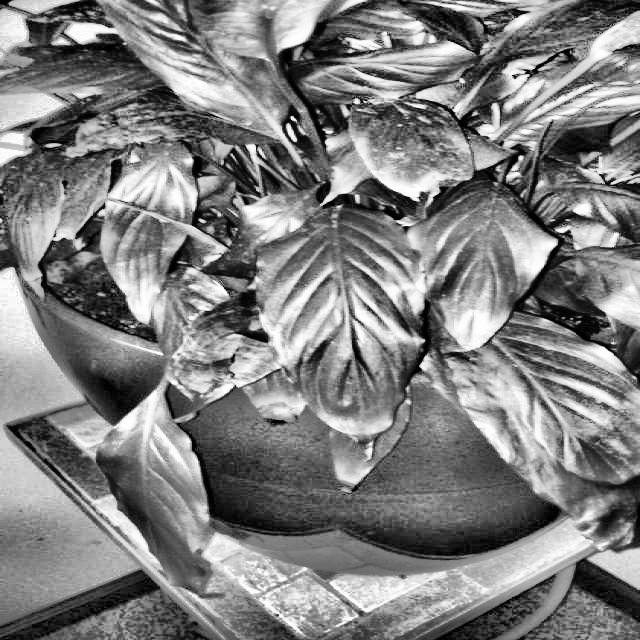plants: (9, 0, 639, 639), (91, 172, 302, 600), (451, 346, 639, 562), (342, 92, 488, 208), (66, 90, 256, 166)
